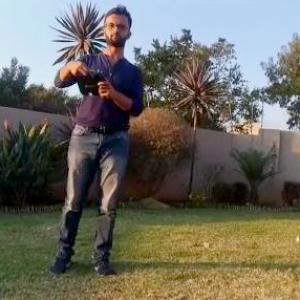follow: (44, 0, 148, 279)
